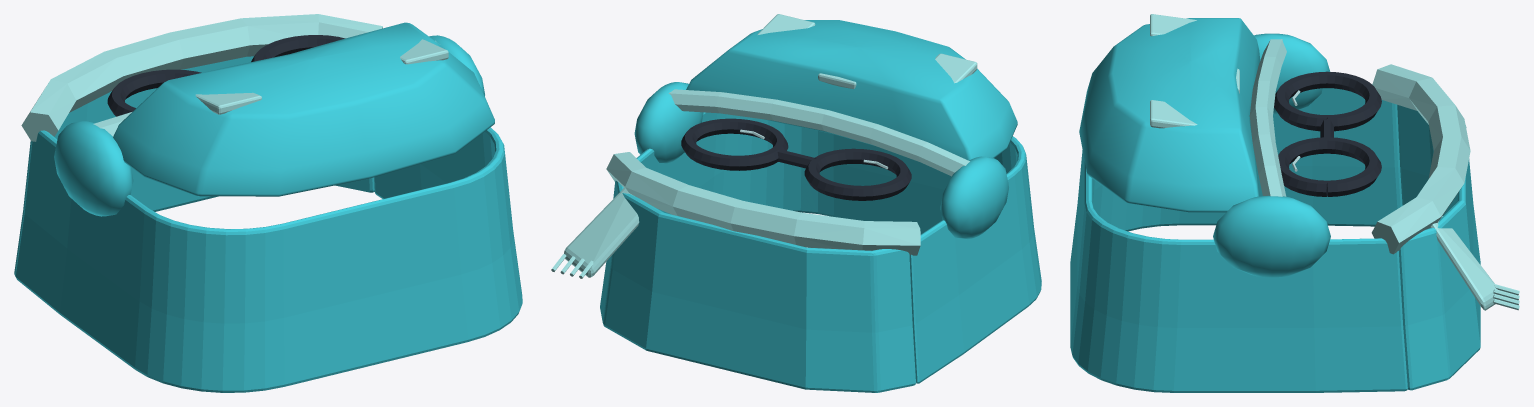
The model's file is diamond_protection.fbx.
The picture shows the model from 3 angles, left to right: view 1: azimuth 30°, elevation 25°; view 2: azimuth 150°, elevation 25°; view 3: azimuth 270°, elevation 25°; orthographic projection. The views are drawn at different scales.
Visible parts, largest first — view 1: diamond_protection_armor; view 2: diamond_protection_armor; view 3: diamond_protection_armor.
Boxes of the visible parts, box(x1,y1,x2,y2) form: diamond_protection_armor: box(14, 14, 522, 392); diamond_protection_armor: box(551, 14, 1041, 392); diamond_protection_armor: box(1070, 14, 1519, 392).
Bounding box in the file's own units: 4.52 × 2.8 × 4.64.
Materials: 1 (1 with a texture image).
